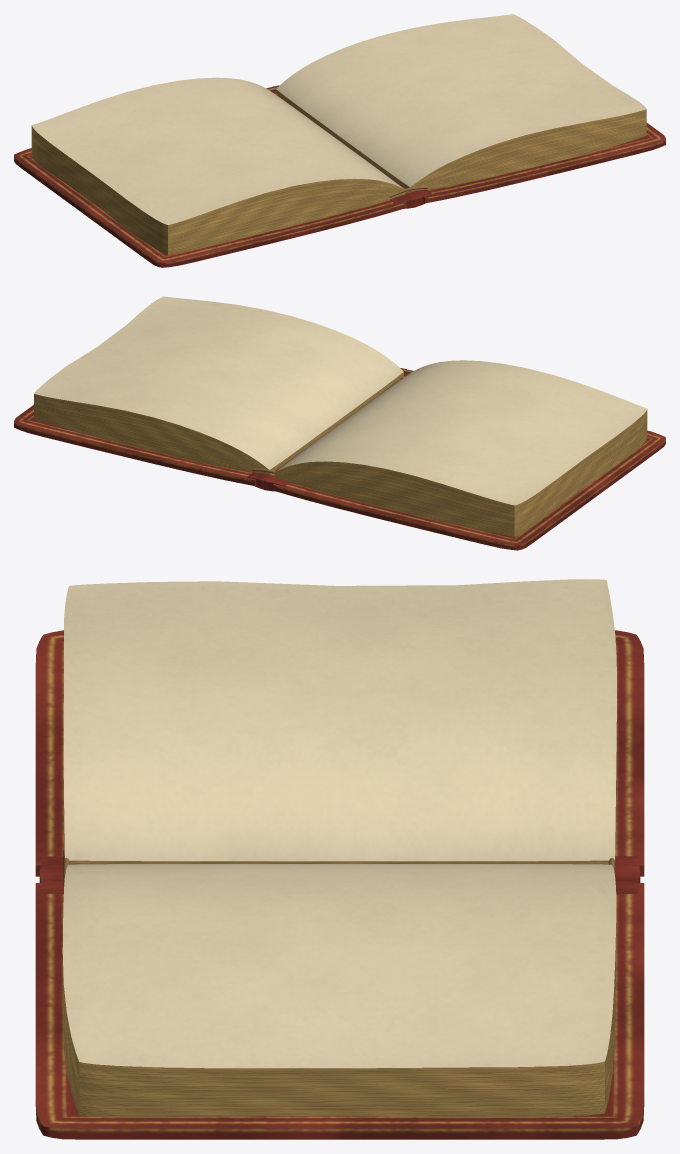
Rendered from OpenBook_02.fbx.
3 views of the same model, one above another, from view 1: azimuth 30°, elevation 25°; view 2: azimuth 150°, elevation 25°; view 3: azimuth 270°, elevation 25° (orthographic). The views are drawn at different scales.
Visible parts, largest first — view 1: OpenBook_02.001; view 2: OpenBook_02.001; view 3: OpenBook_02.001.
Boxes of the visible parts, <box> form: OpenBook_02.001: <box>14,14,665,267</box>; OpenBook_02.001: <box>14,296,665,550</box>; OpenBook_02.001: <box>35,579,644,1139</box>.
Size of the model in its own units: 0.461 by 0.0391 by 0.238.
